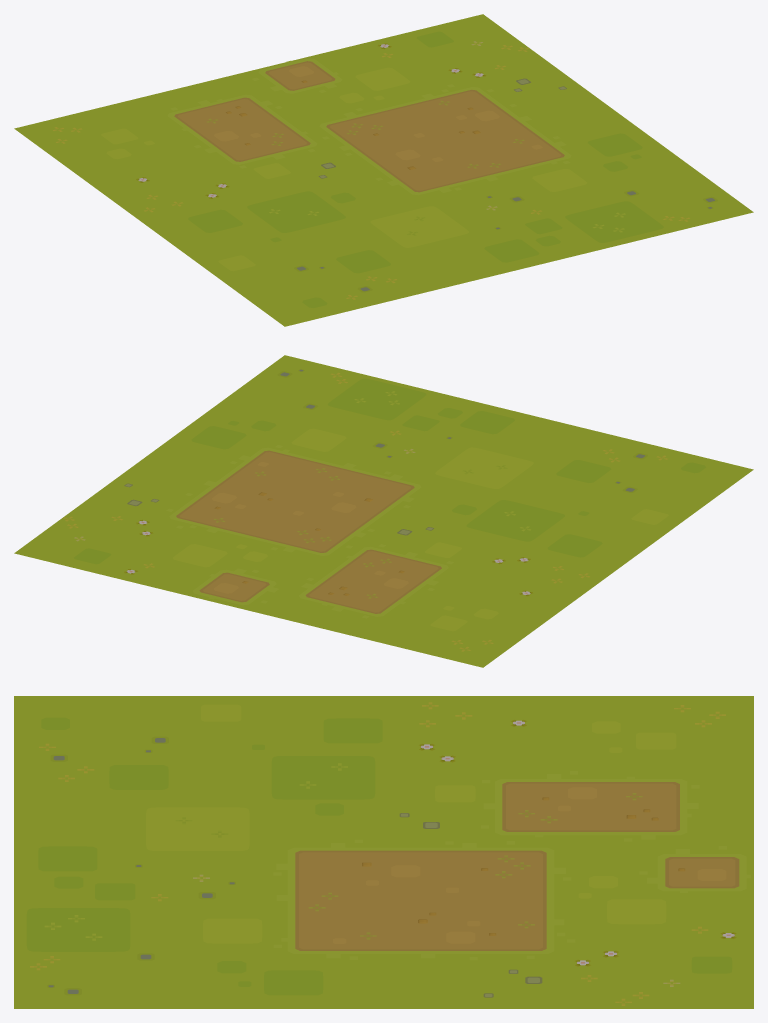
Rendered from C_grass2_01.fbx.
3 views of the same model, one above another, from view 1: azimuth 30°, elevation 25°; view 2: azimuth 150°, elevation 25°; view 3: azimuth 270°, elevation 25° (orthographic). The views are drawn at different scales.
Parts seen in each view (by area): view 1: C_grass2_01; view 2: C_grass2_01; view 3: C_grass2_01.
Boxes of the visible parts, x1=… form: C_grass2_01: x1=14, y1=14, x2=753, y2=326; C_grass2_01: x1=14, y1=355, x2=753, y2=667; C_grass2_01: x1=14, y1=696, x2=753, y2=1008.
Bounding box in the file's own units: 50 × 0.1975 × 50.
